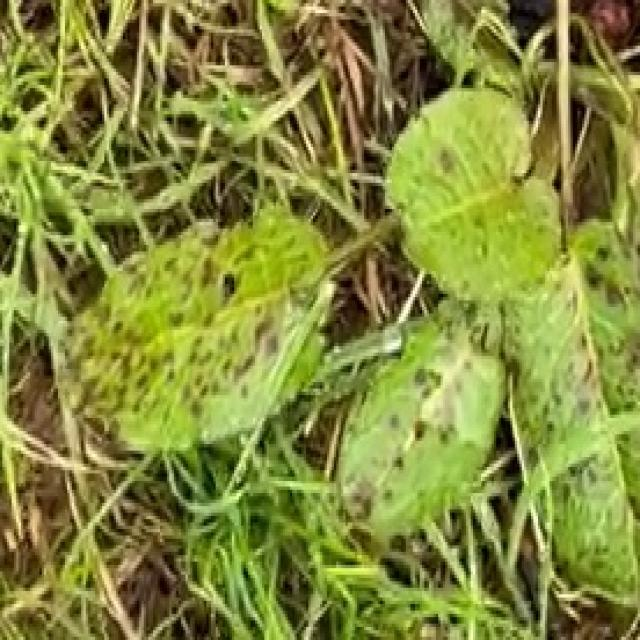organic waste: (35, 49, 640, 594)
